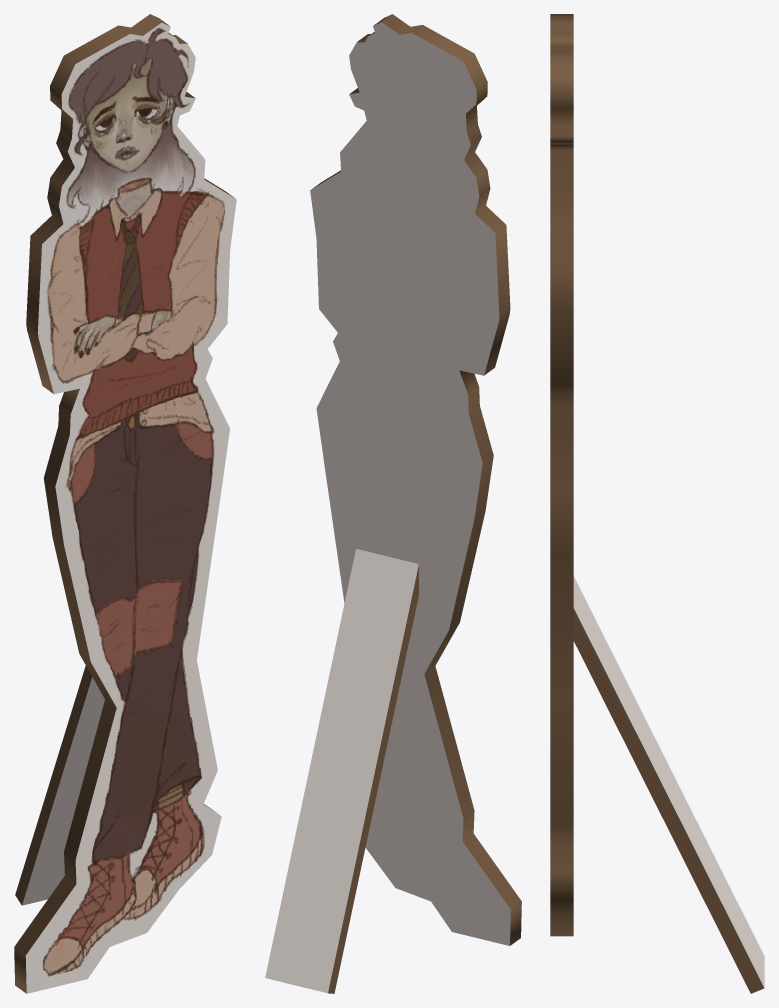
The model's file is Olov_Nauseous.fbx.
The picture shows the model from 3 angles, left to right: view 1: azimuth 30°, elevation 25°; view 2: azimuth 150°, elevation 25°; view 3: azimuth 270°, elevation 25°; orthographic projection. The views are drawn at different scales.
Visible parts, largest first — view 1: Olov_Nauseous; view 2: Olov_Nauseous; view 3: Olov_Nauseous.
Part boxes in pixels (<box>): Olov_Nauseous: <box>14,14,236,993</box>; Olov_Nauseous: <box>265,14,521,993</box>; Olov_Nauseous: <box>550,14,764,993</box>.
Bounding box in the file's own units: 44.4 × 190 × 39.1.
1 material, 1 textured.
